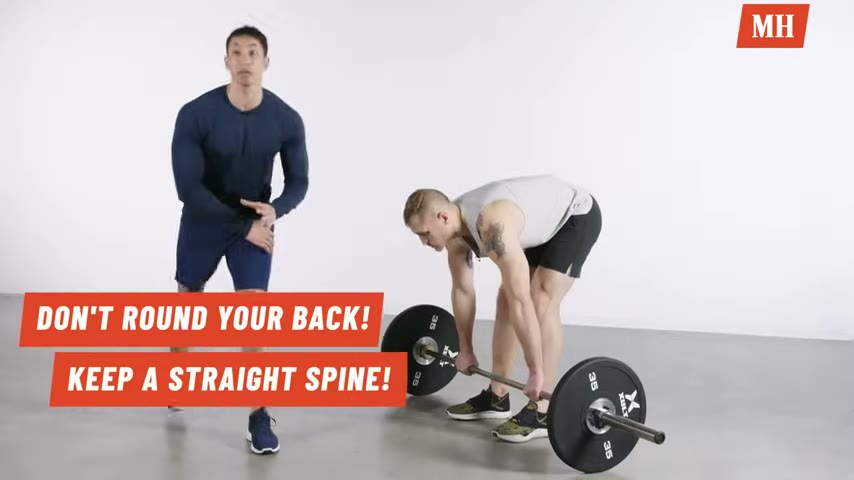barbell_plate_side: (587, 351, 667, 473)
